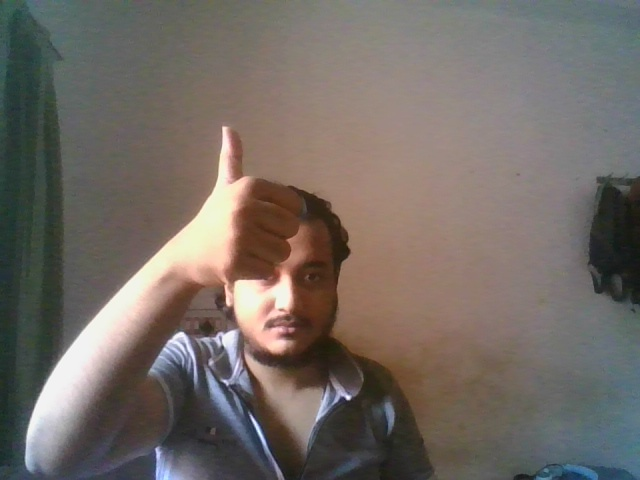ThumbsUp: (185, 123, 302, 282)
